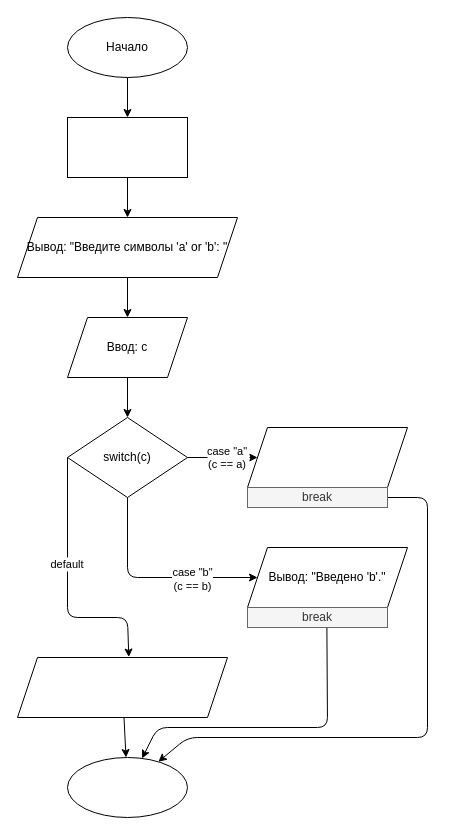
Some shapes in this 453 by 835 pixel diagram are drawn without their labels. The shapes that lost their labels are listed below. From the top down, each one's centre as x and y in pixels, then its label:
point 127,147: char c;
point 327,457: Вывод: "Введено 'a'."
point 122,687: Вывод: "Неизвестный символ"
point 127,787: Конец
